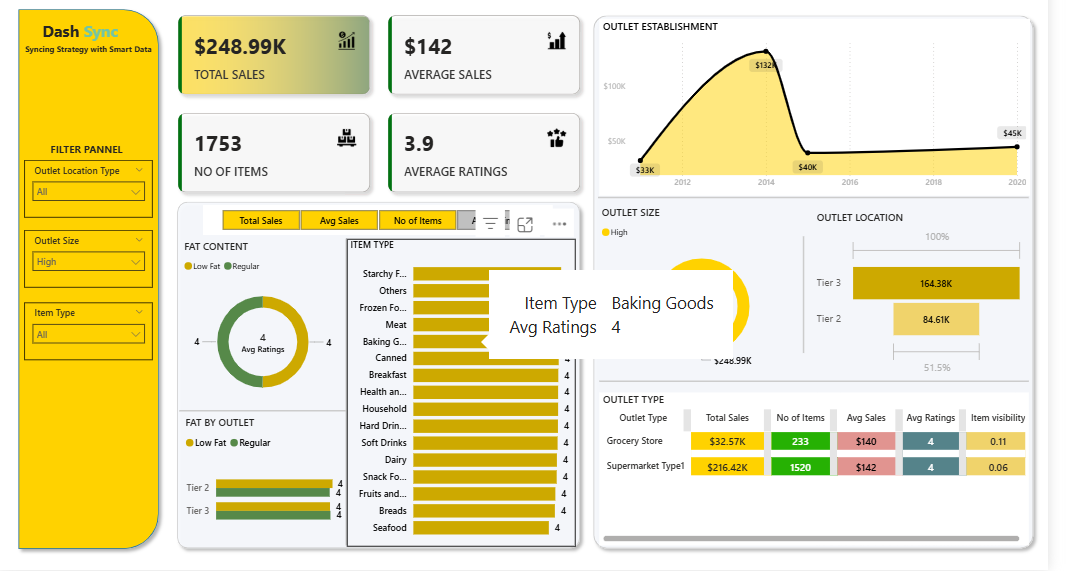

The page's visual inventory and layout, read from the dashboard file:
{"tool":"powerbi","page":{"name":"Page 1","canvas":[1400,800],"ordinal":1},"visuals":[{"type":"shape","box":[17.5,42.5,205,737.5],"z":0},{"type":"textbox","box":[33.8,42.5,150,58.8],"z":1000},{"type":"textbox","box":[27.5,90,195,38.8],"z":2000},{"type":"cardVisual","fields":{"Data":["BlinkIT Grocery Data.Total Sales","BlinkIT Grocery Data.Avg Sales","BlinkIT Grocery Data.No of Items","BlinkIT Grocery Data.Avg Ratings"]},"box":[222.5,42.5,570,270],"z":3000},{"type":"shape","box":[230,300,555,480],"z":4000},{"type":"donutChart","title":"FAT CONTENT","fields":{"Y":["BlinkIT Grocery Data.Avg Ratings"],"Category":["BlinkIT Grocery Data.Item Fat Content"]},"box":[243.8,358.8,220,230],"z":5000},{"type":"slicer","fields":{"Values":["metrics.metrics"]},"box":[274,314,466,40],"z":6000},{"type":"cardVisual","fields":{"Data":["BlinkIT Grocery Data.Avg Ratings"]},"box":[296.2,453.8,113.8,86.2],"z":7000},{"type":"clusteredBarChart","title":"FAT BY OUTLET","fields":{"Y":["BlinkIT Grocery Data.Avg Ratings"],"Category":["BlinkIT Grocery Data.Outlet Location Type"],"Series":["BlinkIT Grocery Data.Item Fat Content"]},"box":[245.3,594,220,173.3],"z":8000},{"type":"shape","box":[241.3,574,222.7,28.7],"z":9000},{"type":"shape","box":[353.3,358.7,222,408.7],"z":10000},{"type":"barChart","title":"ITEM TYPE","fields":{"Y":["BlinkIT Grocery Data.Avg Ratings"],"Category":["BlinkIT Grocery Data.Item Type"]},"box":[465,358.8,305,408.8],"z":11000},{"type":"shape","box":[785.7,51.4,604.3,728.6],"z":12000},{"type":"lineChart","title":"OUTLET ESTABLISHMENT ","fields":{"Y":["BlinkIT Grocery Data.Total Sales"],"Category":["BlinkIT Grocery Data.Outlet Establishment Year"]},"box":[801.4,64.3,574.3,235.7],"z":13000},{"type":"shape","box":[800,288.6,574.3,30],"z":14000},{"type":"donutChart","title":"OUTLET SIZE","fields":{"Y":["BlinkIT Grocery Data.Total Sales"],"Category":["BlinkIT Grocery Data.Outlet Size"]},"box":[800,313,277,225],"z":15000},{"type":"shape","box":[962.9,354.3,221.4,155.7],"z":16000},{"type":"funnel","title":"OUTLET LOCATION","fields":{"Y":["Sum(BlinkIT Grocery Data.Sales)"],"Category":["BlinkIT Grocery Data.Outlet Location Type"]},"box":[1087.1,320,285.7,225.7],"z":17000},{"type":"shape","box":[801.4,532.9,572.9,30],"z":18000},{"type":"pivotTable","title":"OUTLET TYPE","fields":{"Rows":["BlinkIT Grocery Data.Outlet Type"],"Values":["BlinkIT Grocery Data.Total Sales","BlinkIT Grocery Data.No of Items","BlinkIT Grocery Data.Avg Sales","BlinkIT Grocery Data.Avg Ratings","Avg(BlinkIT Grocery Data.Item Visibility)"]},"box":[801.4,562.9,572.9,204.3],"z":19000},{"type":"slicer","fields":{"Values":["BlinkIT Grocery Data.Outlet Location Type"]},"box":[34.3,252.9,171.4,77.1],"z":20000},{"type":"slicer","fields":{"Values":["BlinkIT Grocery Data.Outlet Size"]},"box":[34.3,347.1,171.4,77.1],"z":21000},{"type":"slicer","fields":{"Values":["BlinkIT Grocery Data.Item Type"]},"box":[34.3,442.9,171.4,77.1],"z":22000},{"type":"textbox","box":[64.3,224.3,122.9,28.6],"z":23000}]}

Visuals, with their boxes on the page's 1400x800 design canvas (x1, y1, x2, y2). These are canvas units, not pixel positions in the 1067x571 screenshot, which may show the page scaled, cropped or inside an application window:
shape: (left=18, top=42, right=222, bottom=780)
textbox: (left=34, top=42, right=184, bottom=101)
textbox: (left=28, top=90, right=222, bottom=129)
cardVisual - BlinkIT Grocery Data.Total Sales x BlinkIT Grocery Data.Avg Sales: (left=222, top=42, right=792, bottom=312)
shape: (left=230, top=300, right=785, bottom=780)
"FAT CONTENT" donutChart: (left=244, top=359, right=464, bottom=589)
slicer - metrics.metrics: (left=274, top=314, right=740, bottom=354)
cardVisual - BlinkIT Grocery Data.Avg Ratings: (left=296, top=454, right=410, bottom=540)
"FAT BY OUTLET" clusteredBarChart: (left=245, top=594, right=465, bottom=767)
shape: (left=241, top=574, right=464, bottom=603)
shape: (left=353, top=359, right=575, bottom=767)
"ITEM TYPE" barChart: (left=465, top=359, right=770, bottom=768)
shape: (left=786, top=51, right=1390, bottom=780)
"OUTLET ESTABLISHMENT " lineChart: (left=801, top=64, right=1376, bottom=300)
shape: (left=800, top=289, right=1374, bottom=319)
"OUTLET SIZE" donutChart: (left=800, top=313, right=1077, bottom=538)
shape: (left=963, top=354, right=1184, bottom=510)
"OUTLET LOCATION" funnel: (left=1087, top=320, right=1373, bottom=546)
shape: (left=801, top=533, right=1374, bottom=563)
"OUTLET TYPE" pivotTable: (left=801, top=563, right=1374, bottom=767)
slicer - BlinkIT Grocery Data.Outlet Location Type: (left=34, top=253, right=206, bottom=330)
slicer - BlinkIT Grocery Data.Outlet Size: (left=34, top=347, right=206, bottom=424)
slicer - BlinkIT Grocery Data.Item Type: (left=34, top=443, right=206, bottom=520)
textbox: (left=64, top=224, right=187, bottom=253)
